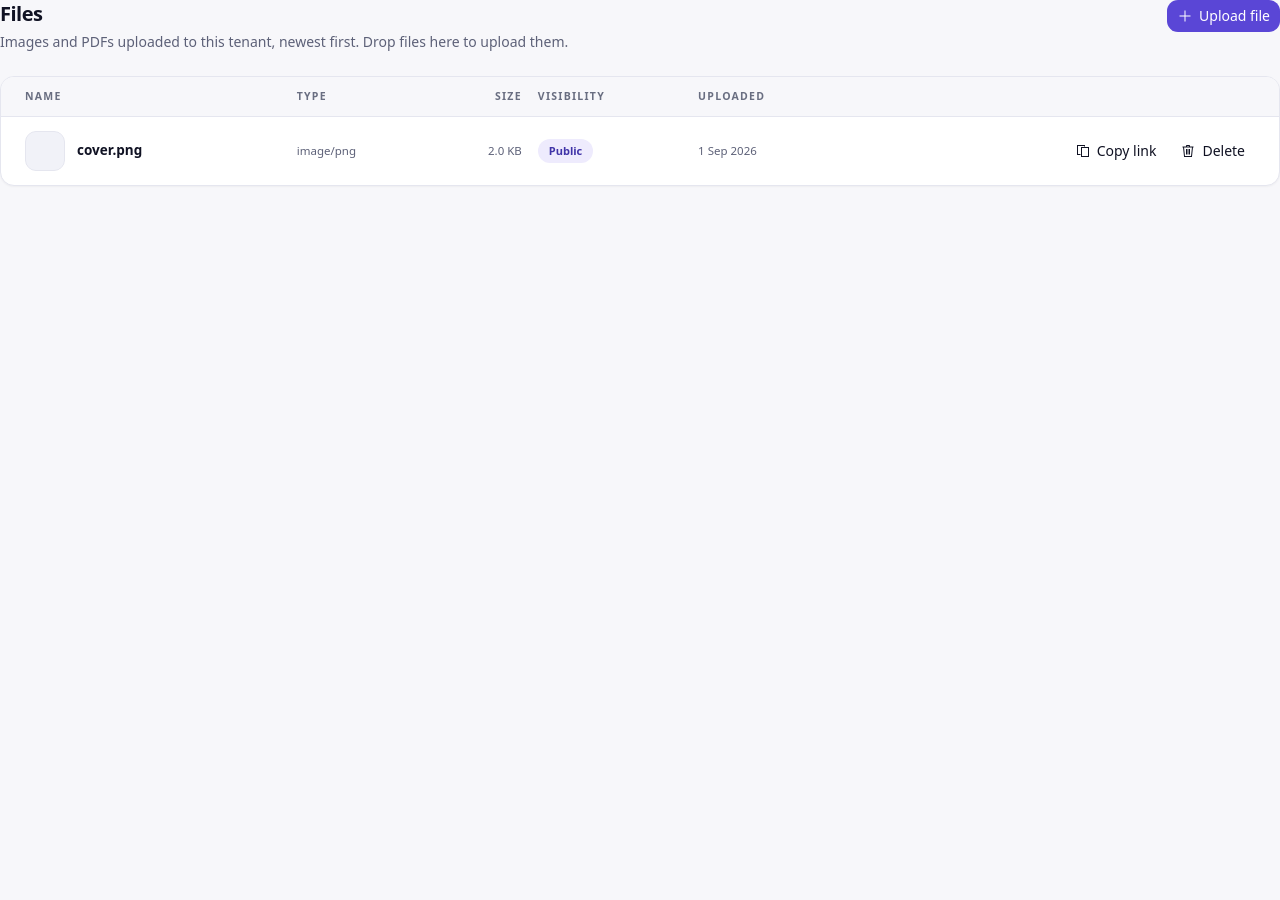
Test: uploading › states the size and type rules before a file is chosen
Expected: the text "cover.png" is shown, top-left (77, 141), bottom-right (142, 161)
Click the button "Upload file" at {"x": 1224, "y": 16}, box top-left (1167, 0), bottom-right (1279, 32)
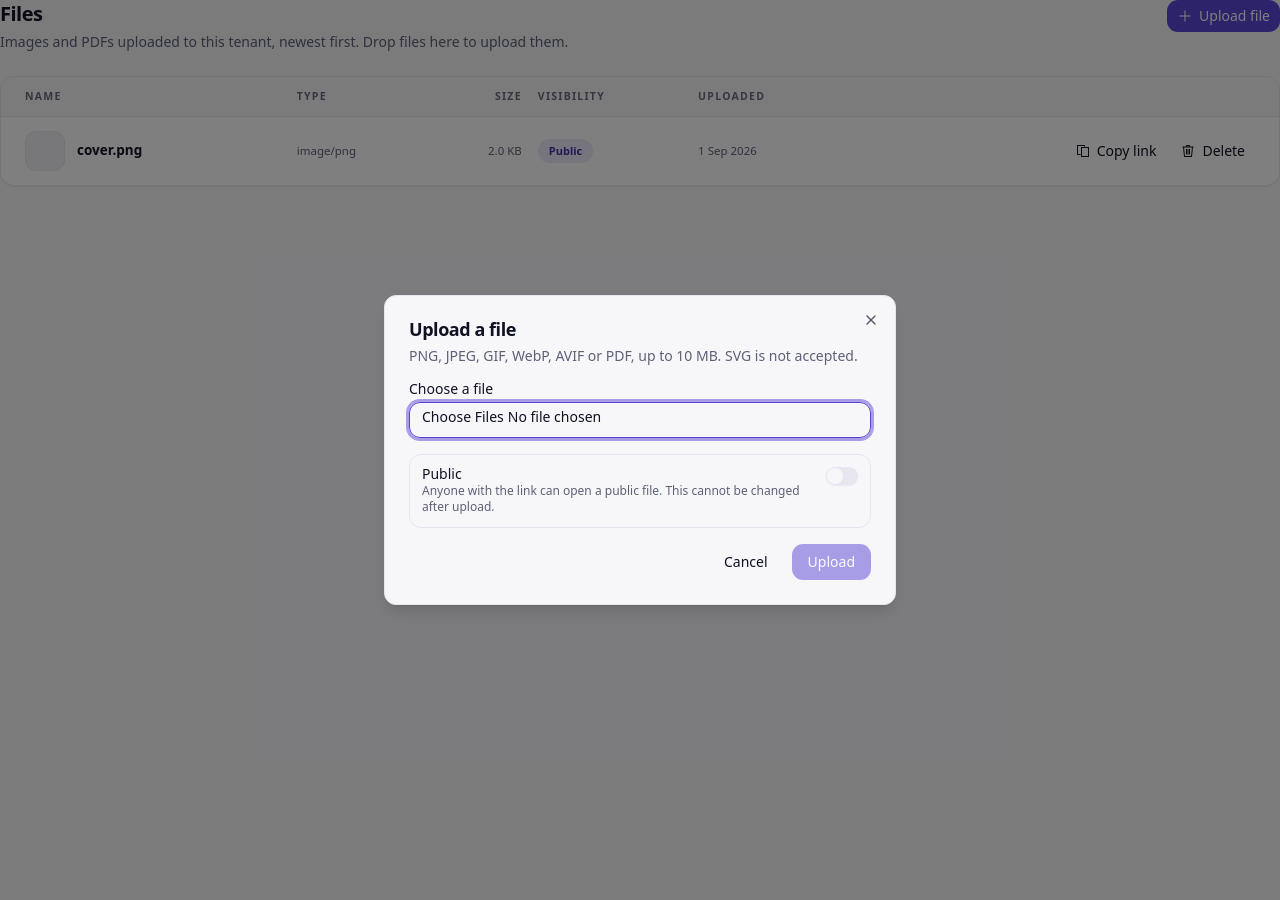
Expected: the text "PNG, JPEG, GIF, WebP, AVIF or PDF, up to 10 MB" is shown, top-left (409, 346), bottom-right (858, 365)
